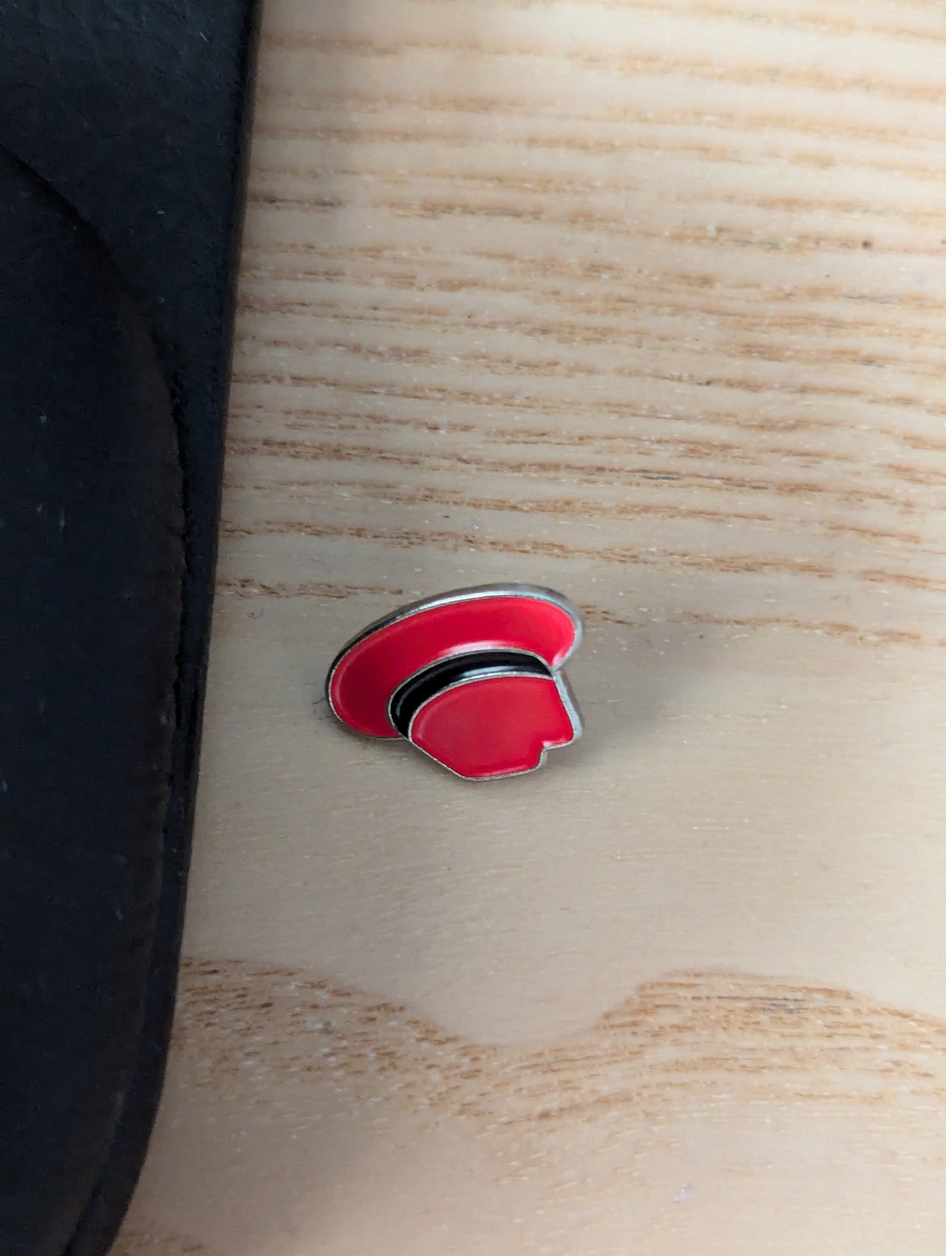Red-Hat: (245, 501, 750, 885)
